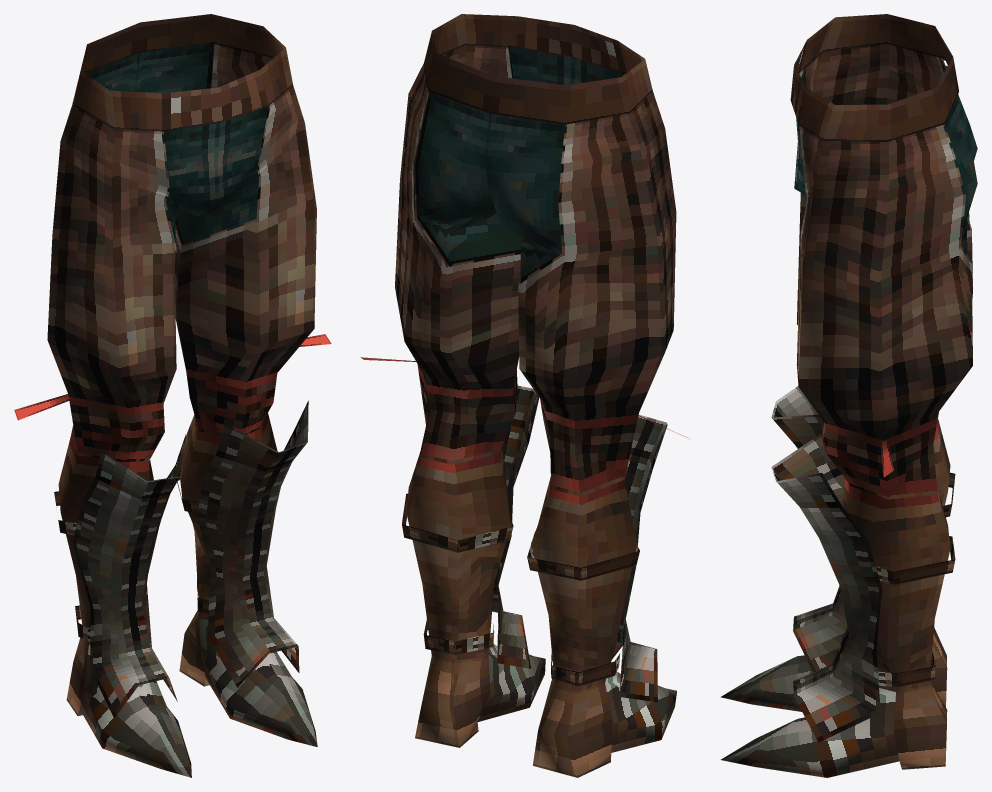
The model's file is m_reg019.glb.
3 renders of one model, left to right at view 1: azimuth 30°, elevation 25°; view 2: azimuth 150°, elevation 25°; view 3: azimuth 270°, elevation 25°, orthographic. The views are drawn at different scales.
Size of the model in its own units: 53.83 by 108 by 37.39.
Materials: 1 (1 with a texture image).
